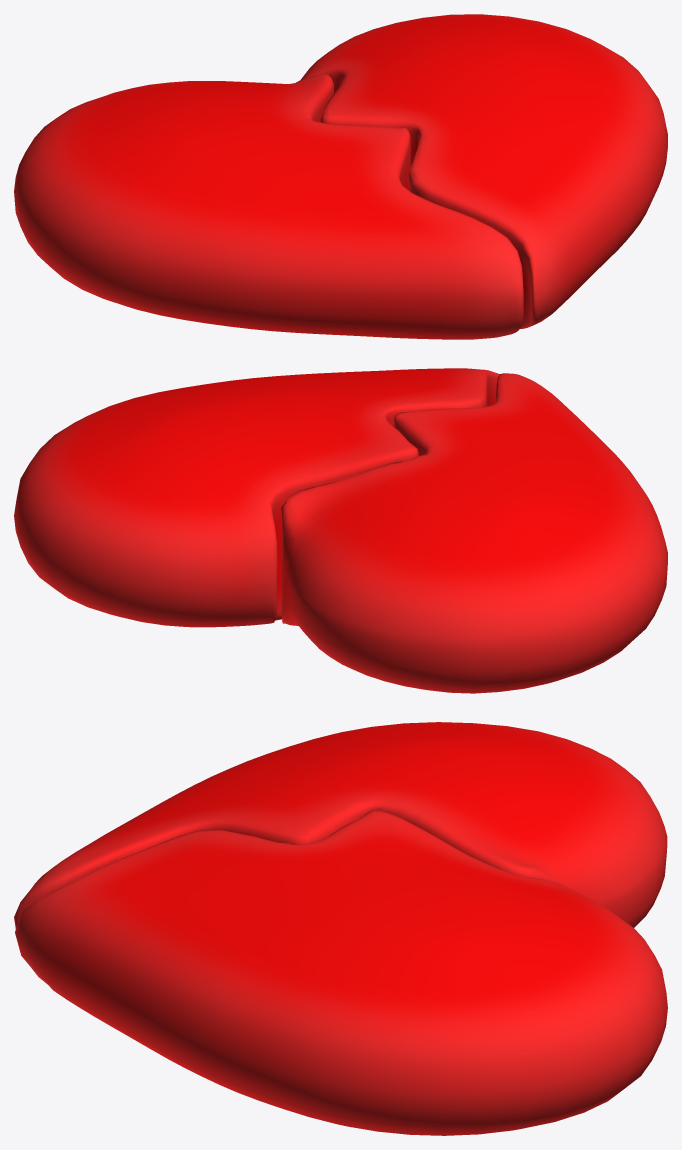
The model's file is gebrokenhart.obj.
3 views of the same model, one above another, from view 1: azimuth 30°, elevation 25°; view 2: azimuth 150°, elevation 25°; view 3: azimuth 270°, elevation 25° (orthographic). The views are drawn at different scales.
Visible parts, largest first — view 1: Broken_Heart_Left_mesh.013, Broken_Heart_Right_mesh.014; view 2: Broken_Heart_Left_mesh.013, Broken_Heart_Right_mesh.014; view 3: Broken_Heart_Right_mesh.014, Broken_Heart_Left_mesh.013.
Part boxes in pixels (x1=…): Broken_Heart_Left_mesh.013: x1=14, y1=74, x2=523, y2=339; Broken_Heart_Right_mesh.014: x1=301, y1=14, x2=667, y2=329; Broken_Heart_Left_mesh.013: x1=281, y1=373, x2=667, y2=693; Broken_Heart_Right_mesh.014: x1=14, y1=368, x2=499, y2=627; Broken_Heart_Right_mesh.014: x1=15, y1=810, x2=667, y2=1135; Broken_Heart_Left_mesh.013: x1=14, y1=722, x2=667, y2=929.
Size of the model in its own units: 2.79 by 0.7449 by 2.32.
Materials: 1 (1 with a texture image).
